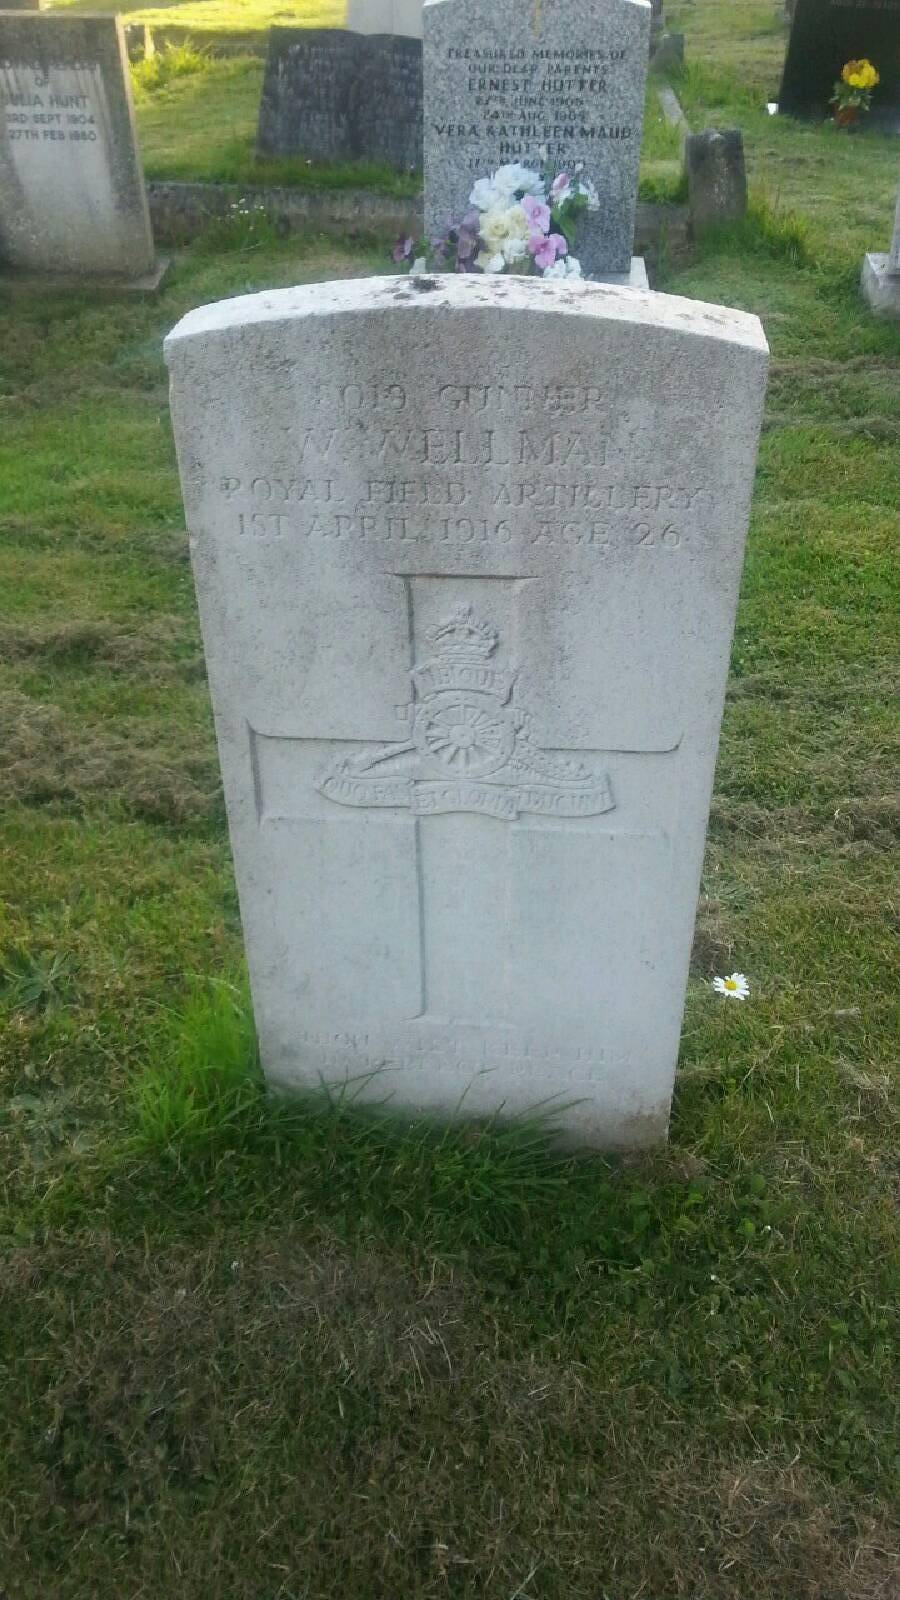upright: (162, 266, 766, 1158)
